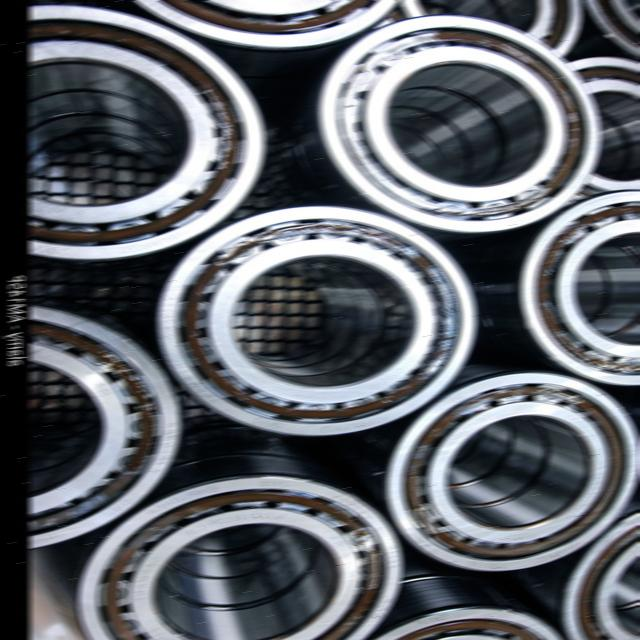Bearing: (156, 204, 478, 436), (290, 15, 598, 232), (68, 451, 405, 640), (28, 6, 264, 264), (377, 367, 640, 571), (30, 298, 178, 552), (478, 189, 640, 387), (126, 0, 402, 74), (530, 503, 640, 640), (360, 574, 568, 640), (559, 51, 640, 203), (382, 0, 586, 60), (577, 1, 640, 59)
